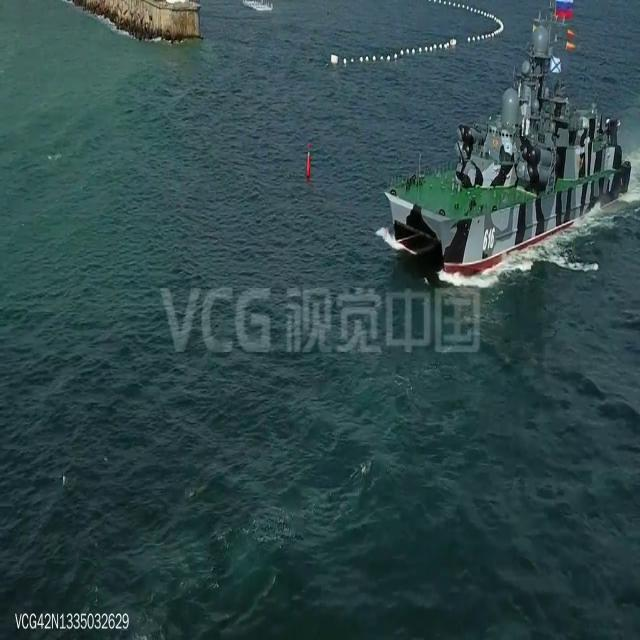navalvessels: (378, 0, 627, 277)
